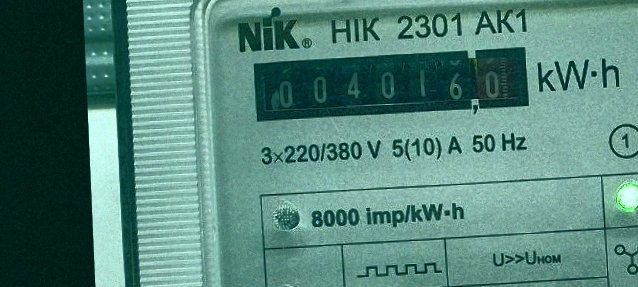0: (376, 66, 399, 102), (275, 76, 297, 110), (480, 67, 502, 100), (310, 71, 330, 106)
1: (414, 64, 431, 99)
4: (343, 67, 363, 102)
6: (444, 67, 465, 100)
screen: (246, 39, 538, 129)
